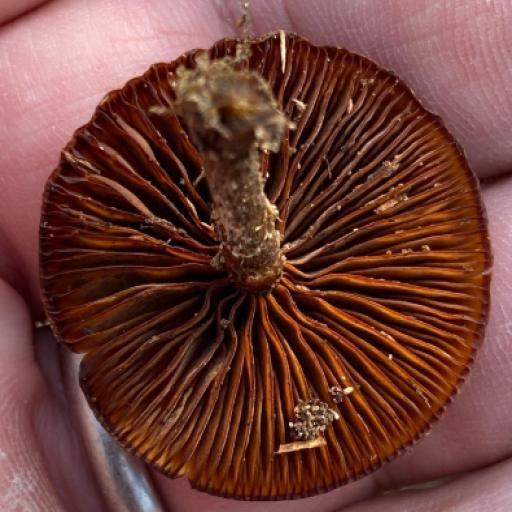mushroom: (31, 24, 500, 503)
